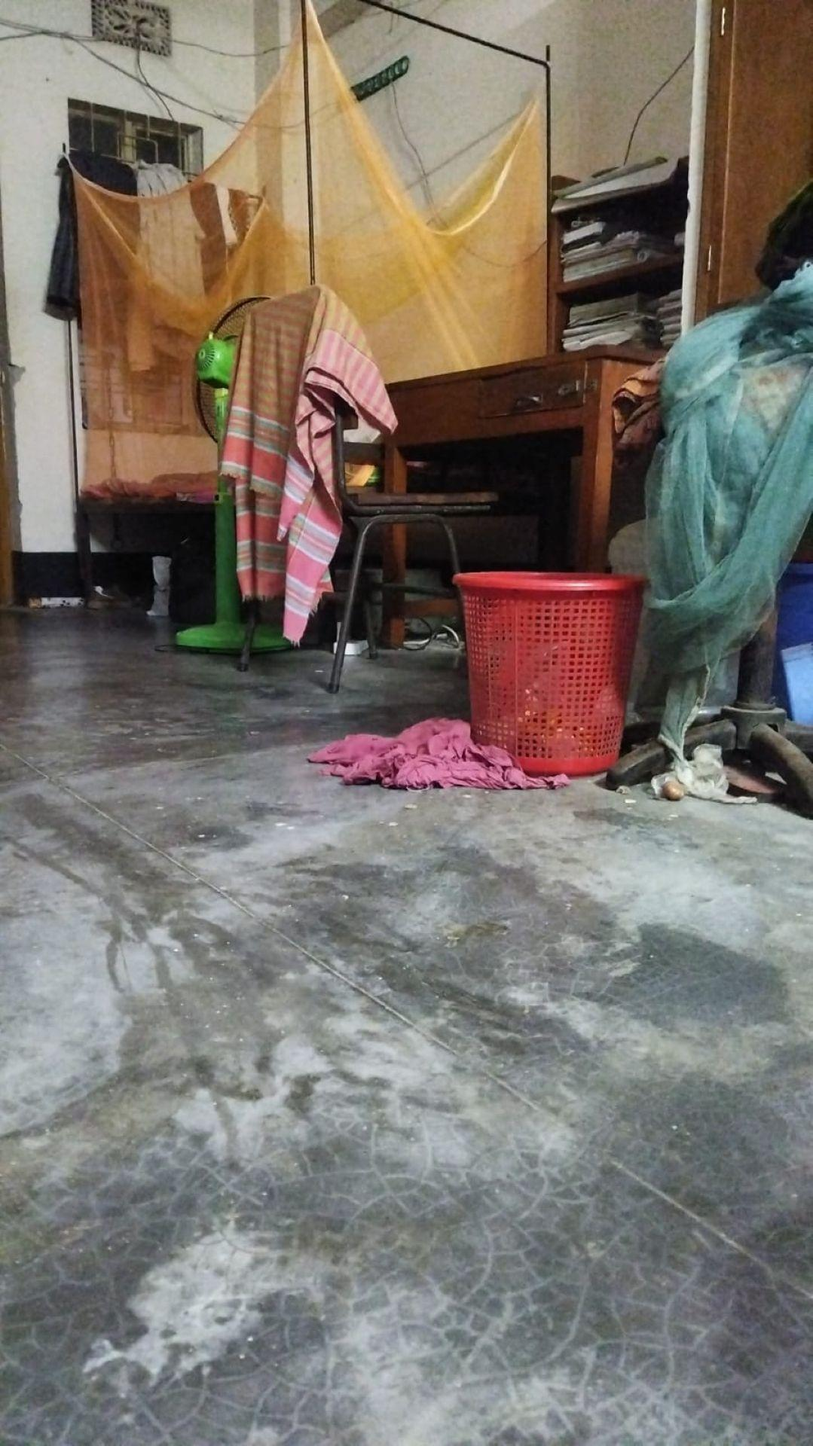Basket: (443, 560, 638, 764)
Chair: (212, 283, 478, 676)
Fan: (168, 287, 294, 663)
Table: (317, 340, 648, 542)
